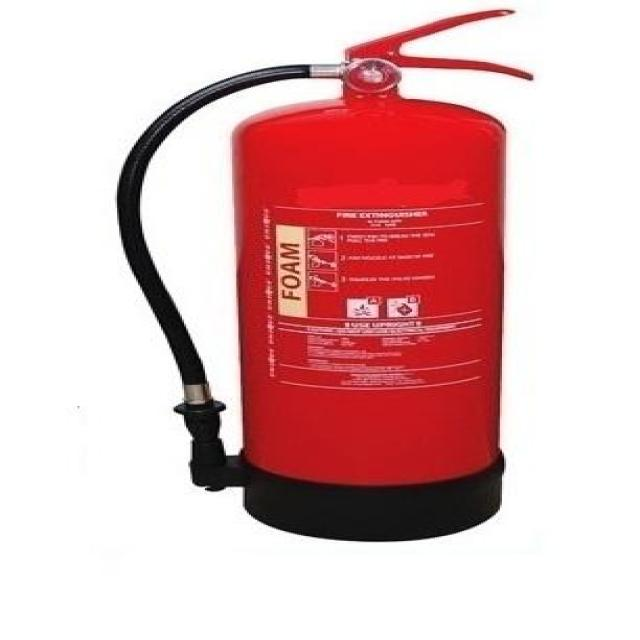fire_extinguisher: (108, 4, 540, 543)
